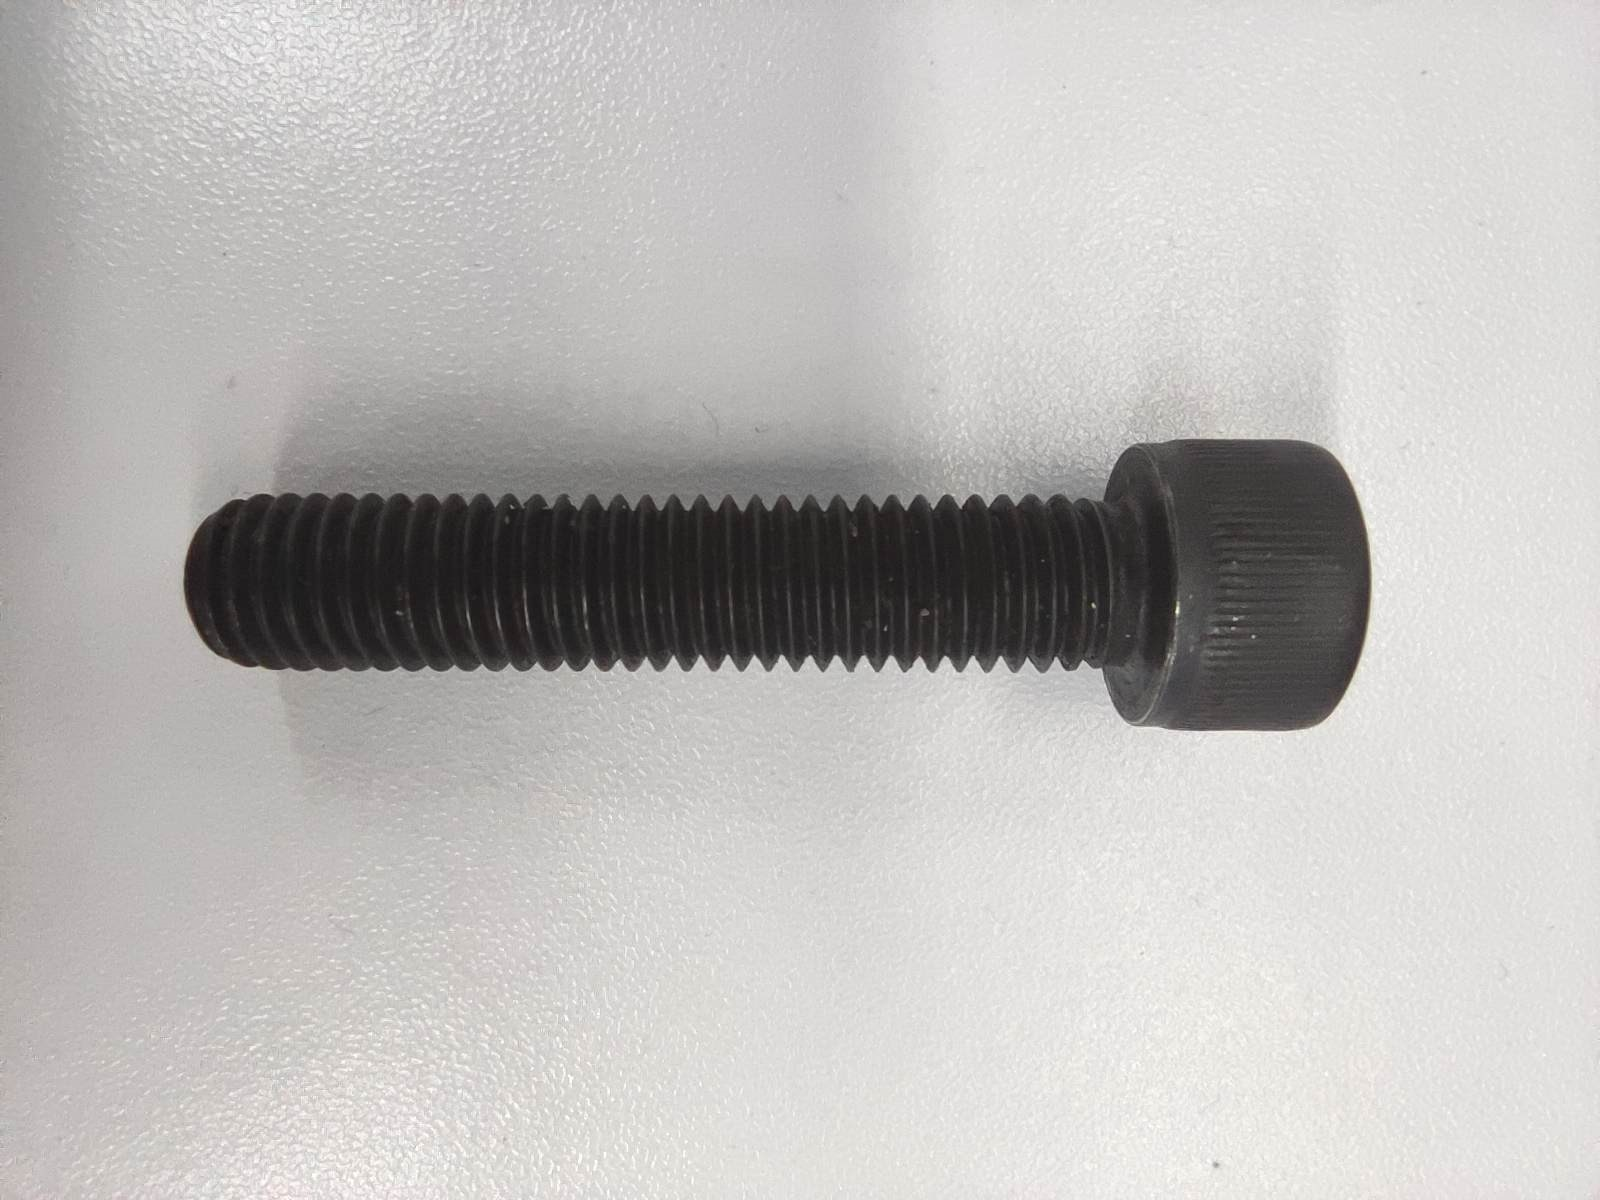螺钉: (183, 436, 1373, 734)
